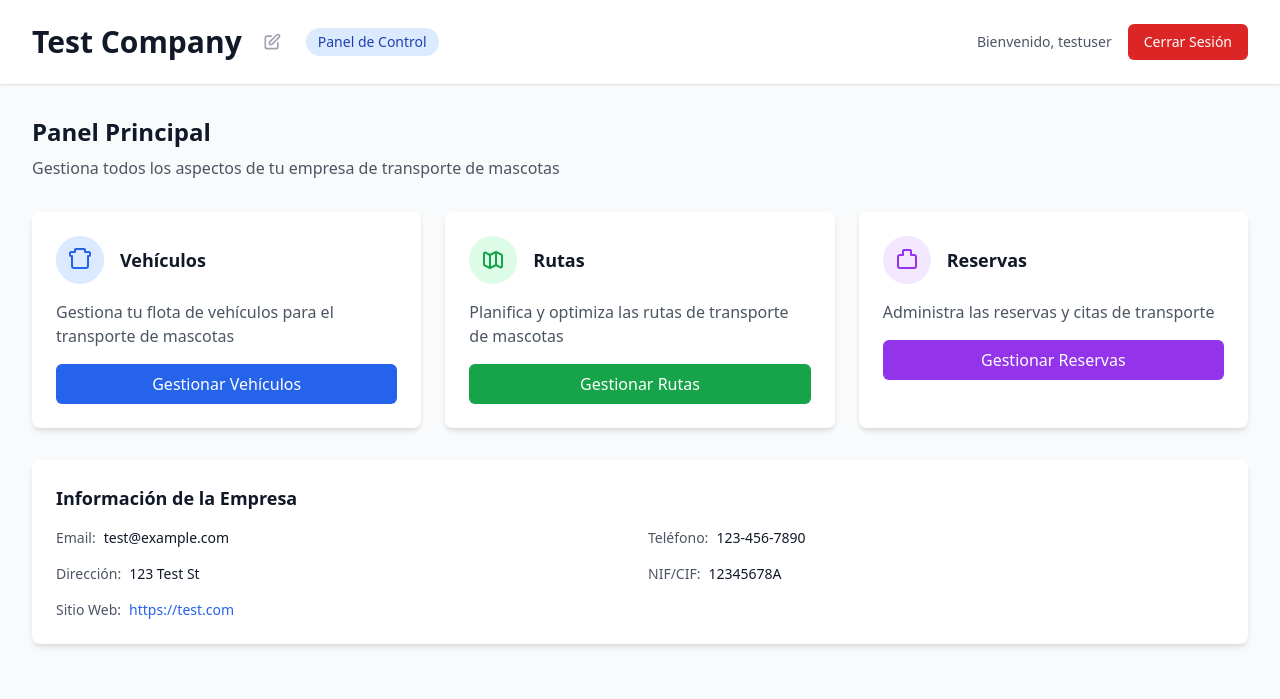
Dashboard Component › opens edit profile form when edit button is clicked
This screenshot has width=1280, height=699.
Click the button titled "editar perfil de empresa" at (272, 42), box [254,24,290,60]
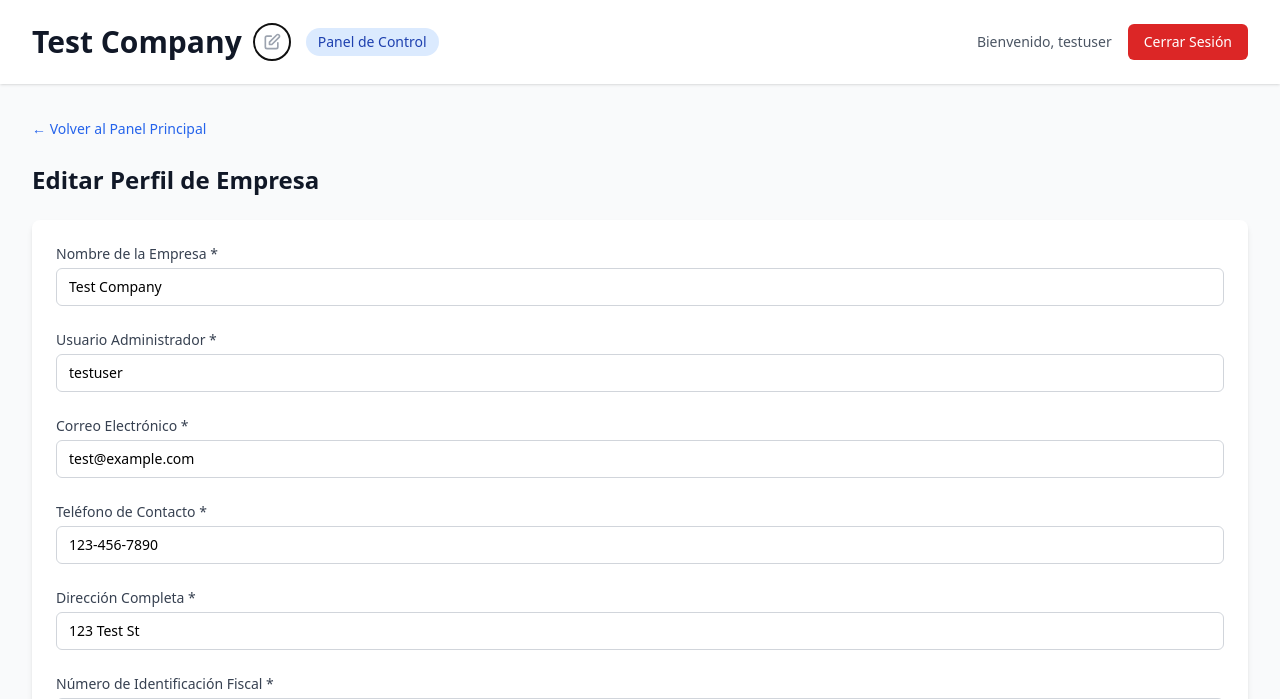
Check: the heading "Editar Perfil de Empresa" is shown, box [32,163,319,196]
